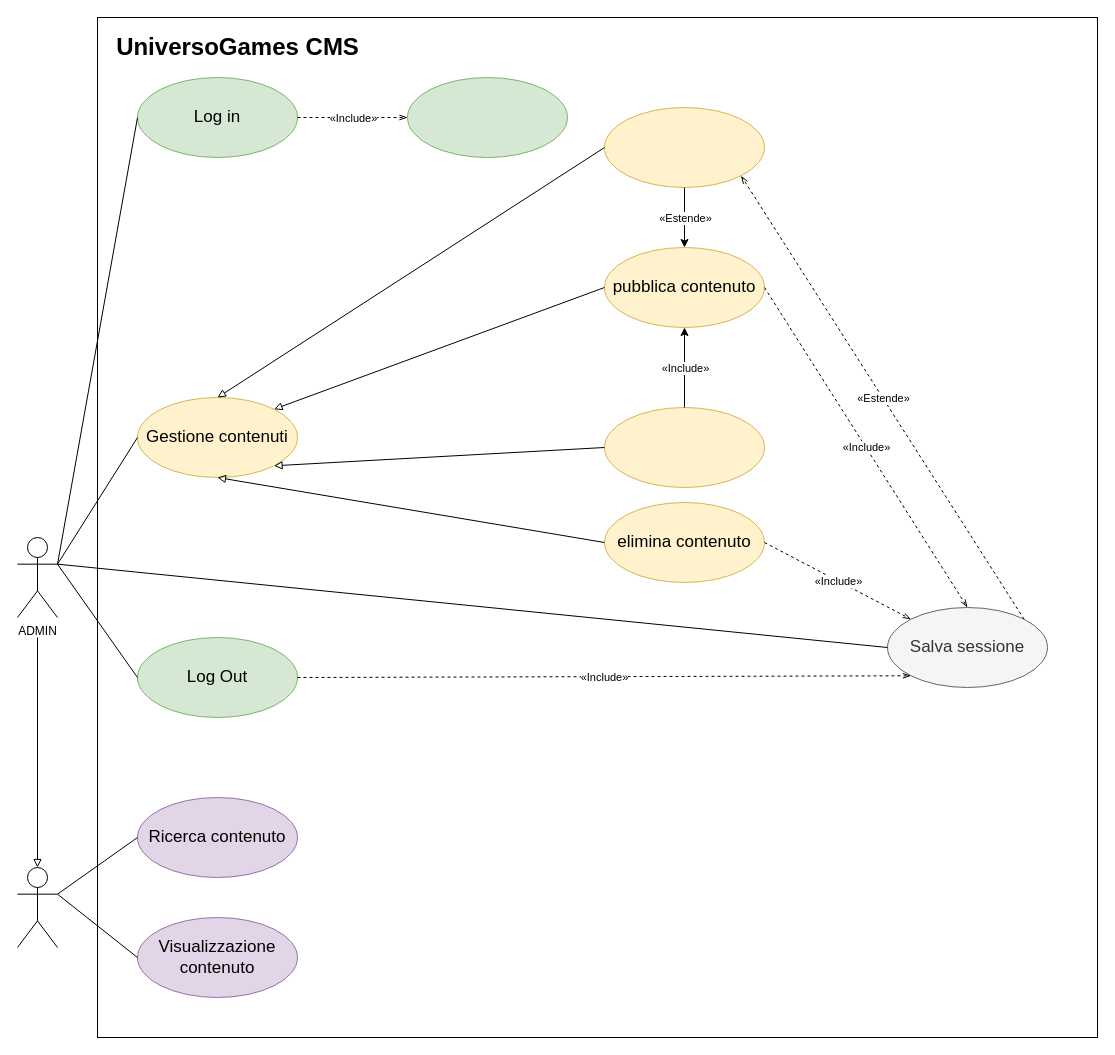
The diagram is 1115 pixels wide and 1055 high, and some of its shapes have lost their labels. The shapes that lost their labels are listed below. From the top down, each one's box as (x1, y1, x2, y2) in pixels, then its label:
(406, 76, 568, 158): Verifica pw
(604, 106, 764, 188): crea contenuto
(604, 406, 764, 488): modifica contenuto
(16, 866, 58, 948): Utente
